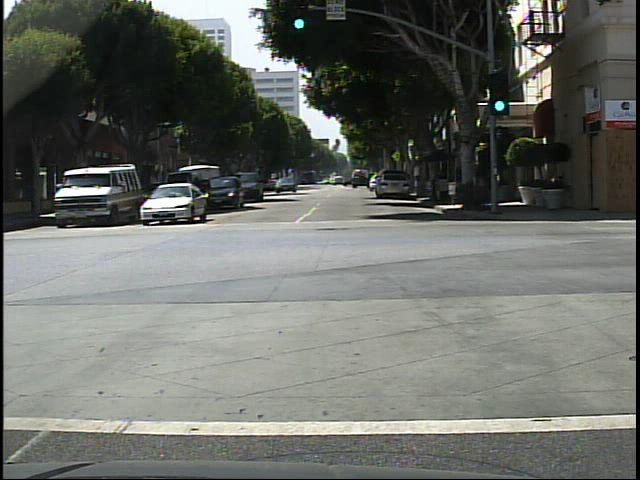car: (45, 159, 132, 228), (138, 183, 205, 225), (207, 176, 245, 211), (375, 171, 413, 196), (239, 172, 265, 201), (275, 174, 294, 194)
